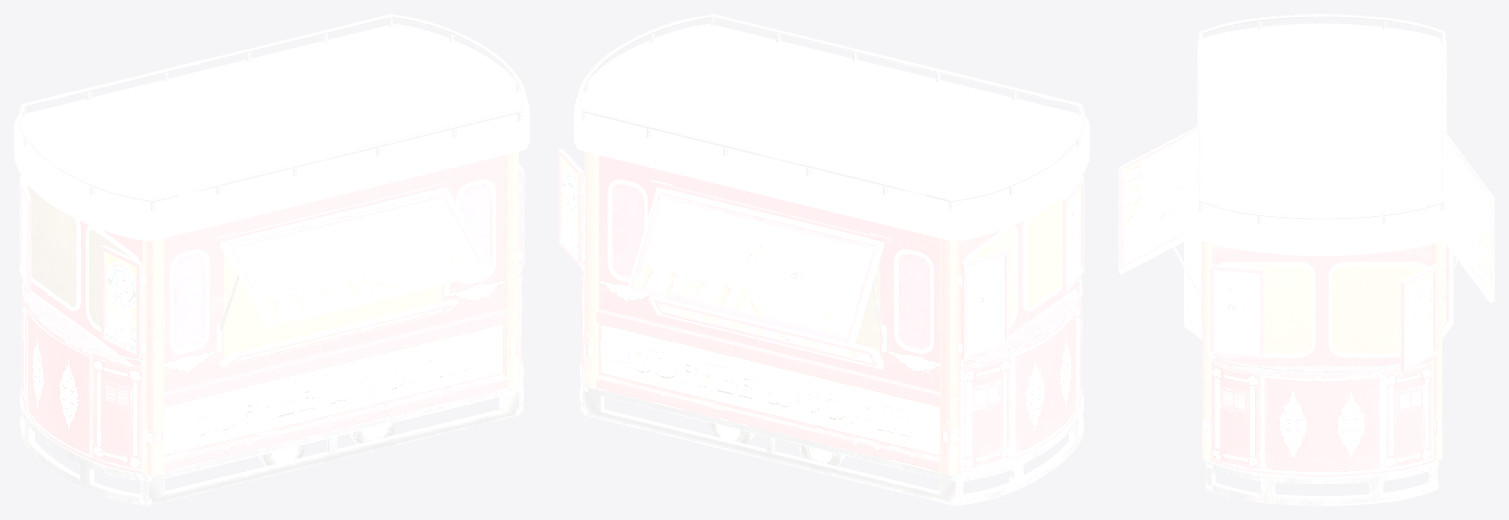
Rendered from sm0140_streetstall.fbx.
3 renders of one model, left to right at view 1: azimuth 30°, elevation 25°; view 2: azimuth 150°, elevation 25°; view 3: azimuth 270°, elevation 25°, orthographic. The views are drawn at different scales.
Parts seen in each view (by area): view 1: LOD_1_Group_0_Sub_1__sm0140_streetstall_A_Mat; view 2: LOD_1_Group_0_Sub_1__sm0140_streetstall_A_Mat; view 3: LOD_1_Group_0_Sub_1__sm0140_streetstall_A_Mat.
Part boxes in pixels (bbox=[...]): LOD_1_Group_0_Sub_1__sm0140_streetstall_A_Mat: bbox=[14, 14, 529, 505]; LOD_1_Group_0_Sub_1__sm0140_streetstall_A_Mat: bbox=[558, 14, 1089, 505]; LOD_1_Group_0_Sub_1__sm0140_streetstall_A_Mat: bbox=[1118, 14, 1494, 505].
Size of the model in its own units: 406 by 265 by 311.
